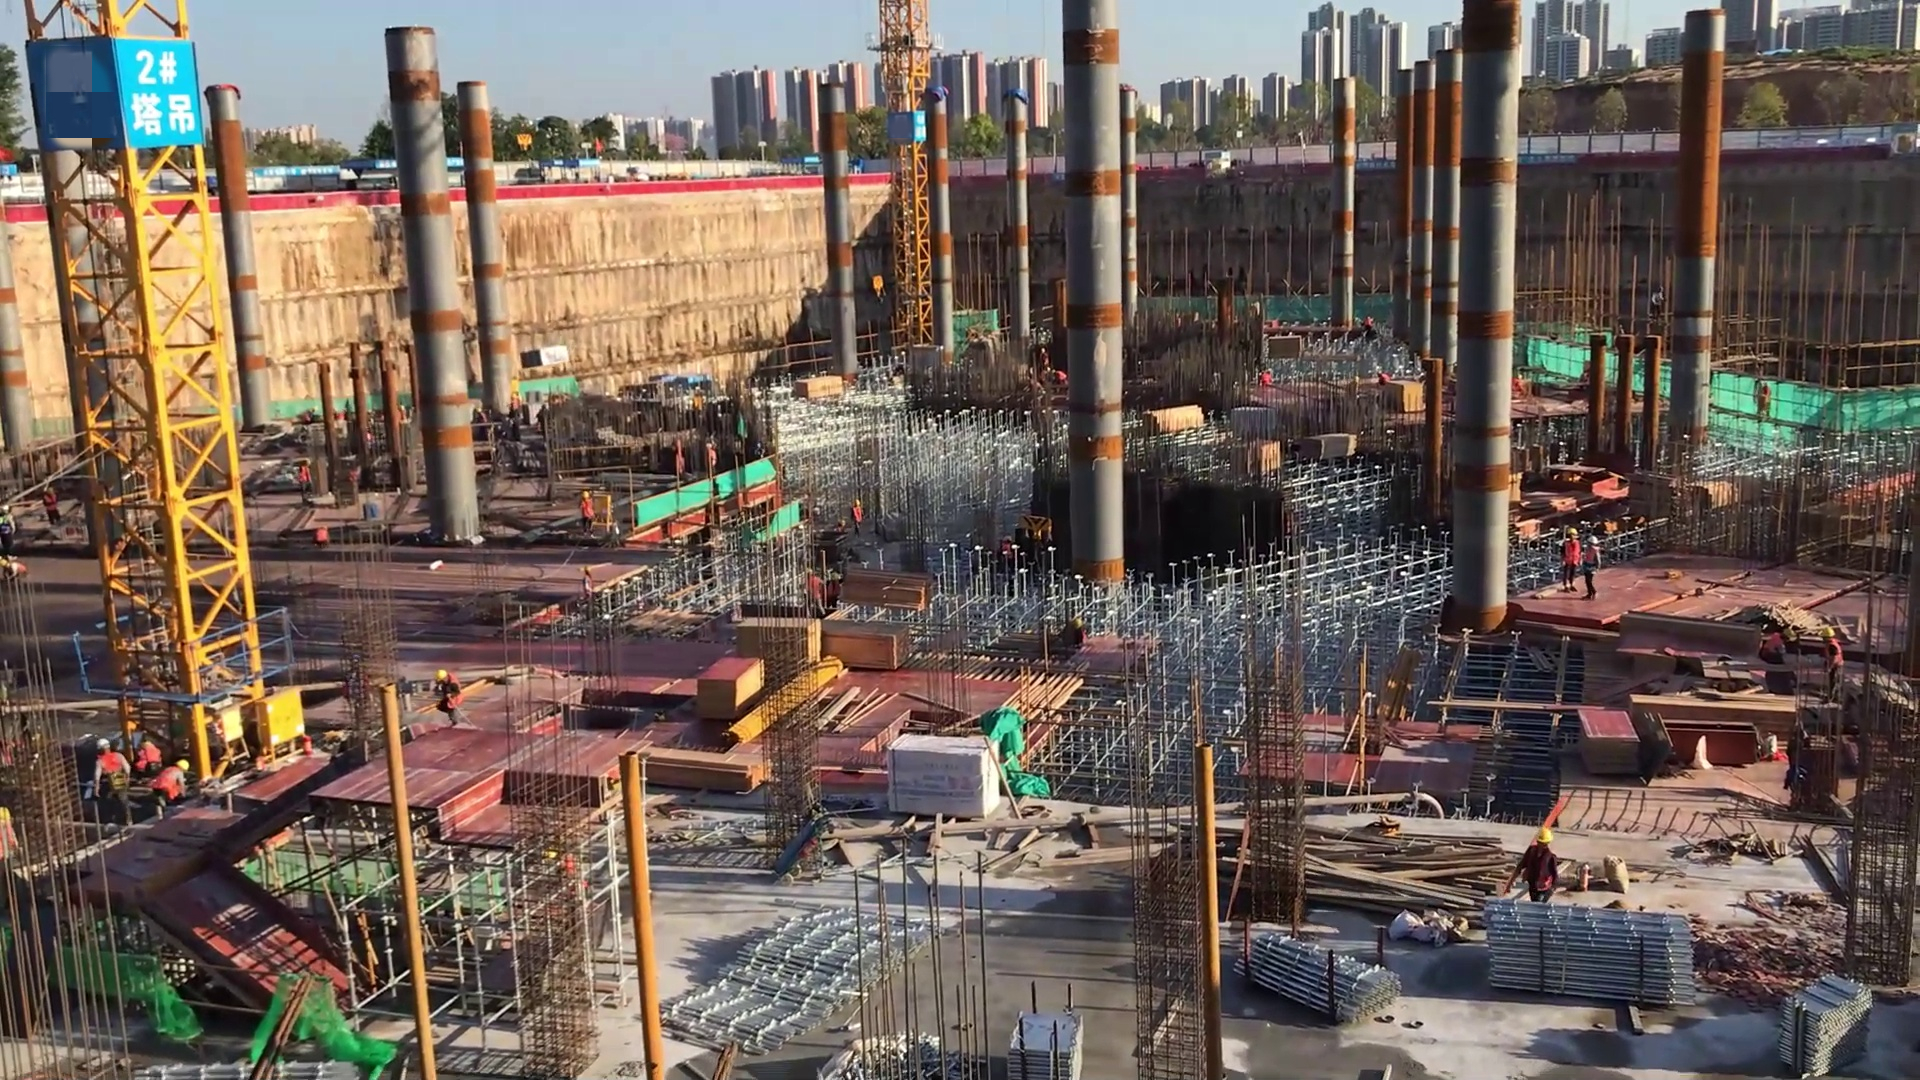board: (737, 615, 827, 675), (1576, 706, 1641, 781), (696, 653, 763, 720), (1391, 377, 1423, 415)
ebox: (255, 685, 306, 772), (217, 698, 251, 765), (594, 493, 616, 532)
helmet: (91, 735, 112, 761), (1531, 827, 1555, 848), (433, 666, 451, 685), (174, 756, 191, 776), (1818, 627, 1838, 643), (1781, 625, 1795, 644), (1564, 529, 1580, 541), (1585, 533, 1597, 546)
hook: (1020, 503, 1069, 557), (856, 267, 895, 307), (511, 127, 547, 167)
hopper: (518, 338, 579, 378)
person: (81, 742, 132, 823), (1759, 615, 1795, 701), (1524, 826, 1556, 922), (427, 664, 466, 742), (156, 749, 196, 815), (1816, 621, 1845, 706), (123, 737, 159, 787), (1580, 534, 1603, 605), (1, 505, 25, 573), (577, 483, 602, 546), (1560, 527, 1581, 592), (1753, 376, 1778, 429), (41, 477, 62, 537), (292, 460, 315, 504), (310, 520, 335, 553), (1256, 363, 1281, 392), (848, 497, 864, 541), (701, 437, 718, 479), (1003, 530, 1017, 575), (1653, 285, 1670, 319), (1036, 343, 1053, 374), (1052, 367, 1069, 392), (1374, 366, 1391, 387), (1514, 371, 1525, 397)
scaffold: (1497, 898, 1696, 1013), (1235, 920, 1406, 1030), (1776, 972, 1878, 1073)
slogan: (122, 24, 213, 153), (1519, 151, 1574, 164), (1354, 159, 1402, 172)
vest: (96, 750, 129, 796), (1527, 850, 1554, 904), (440, 672, 463, 717), (158, 767, 183, 806), (1761, 629, 1784, 667), (1823, 637, 1842, 672), (1581, 544, 1601, 579), (43, 491, 62, 519), (1562, 540, 1578, 572), (581, 495, 596, 523), (315, 529, 330, 545), (853, 505, 863, 527)
wood: (1309, 836, 1505, 908), (1626, 690, 1799, 751), (819, 616, 912, 675), (638, 753, 763, 794), (838, 569, 931, 616), (1141, 405, 1211, 440), (789, 371, 847, 408), (1304, 433, 1361, 461)
